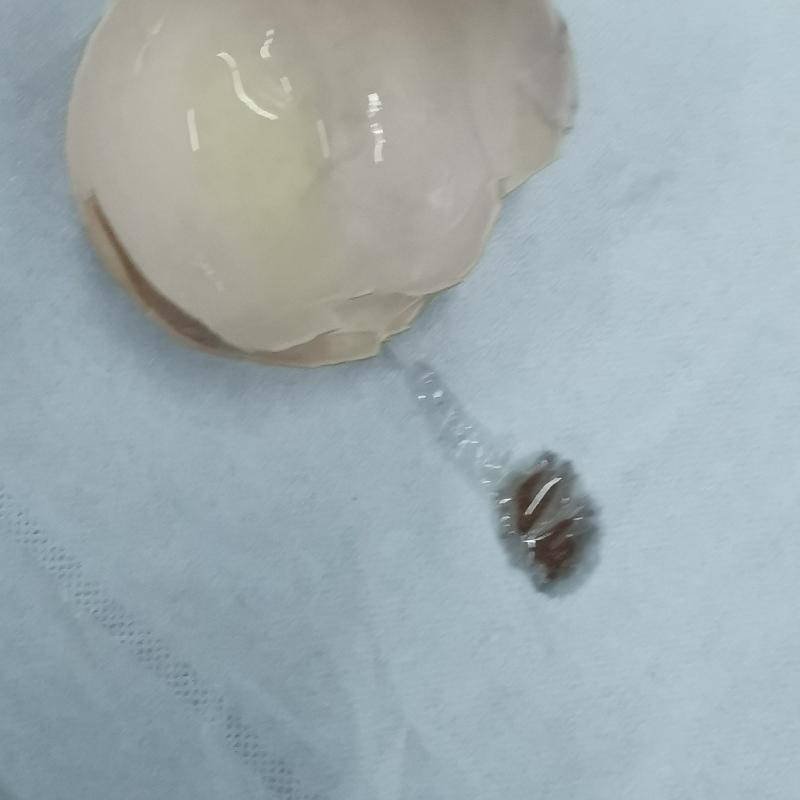eggshell: (63, 8, 581, 361)
